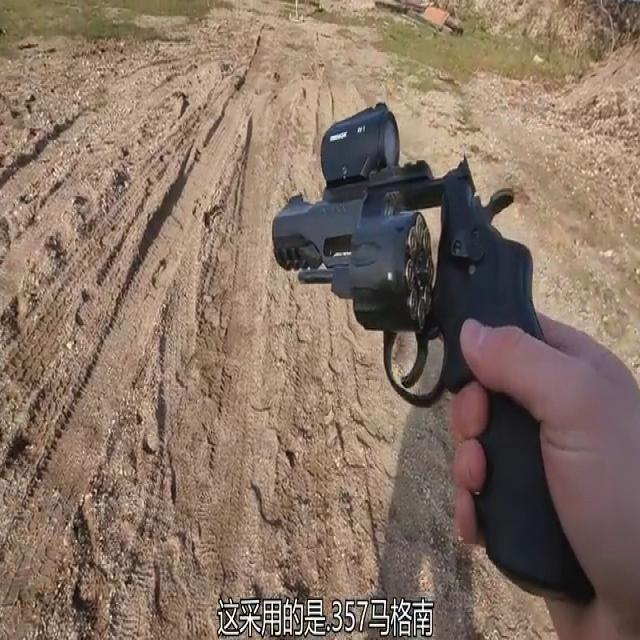gun-knife-thesis - v11 Yolov5 augmented: (268, 127, 580, 594)
